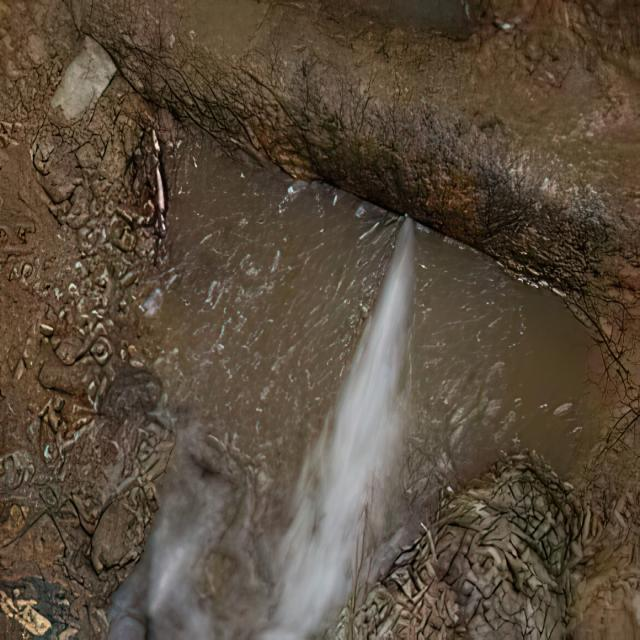leak: (262, 218, 415, 639)
